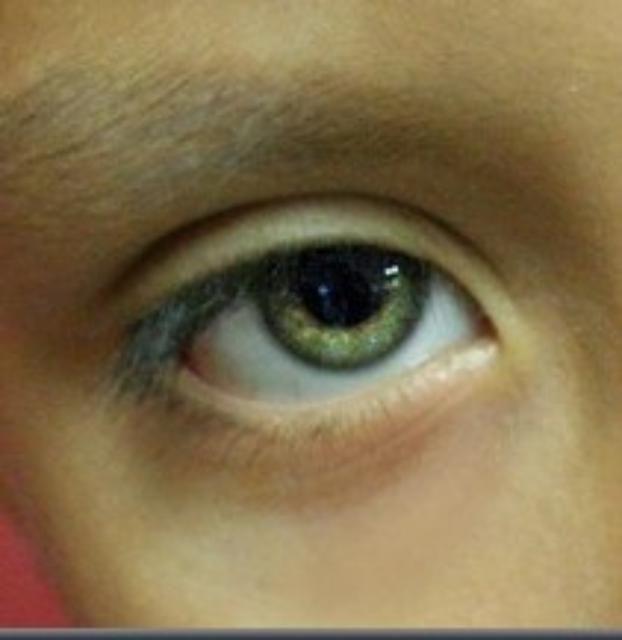eye: (257, 234, 433, 374)
